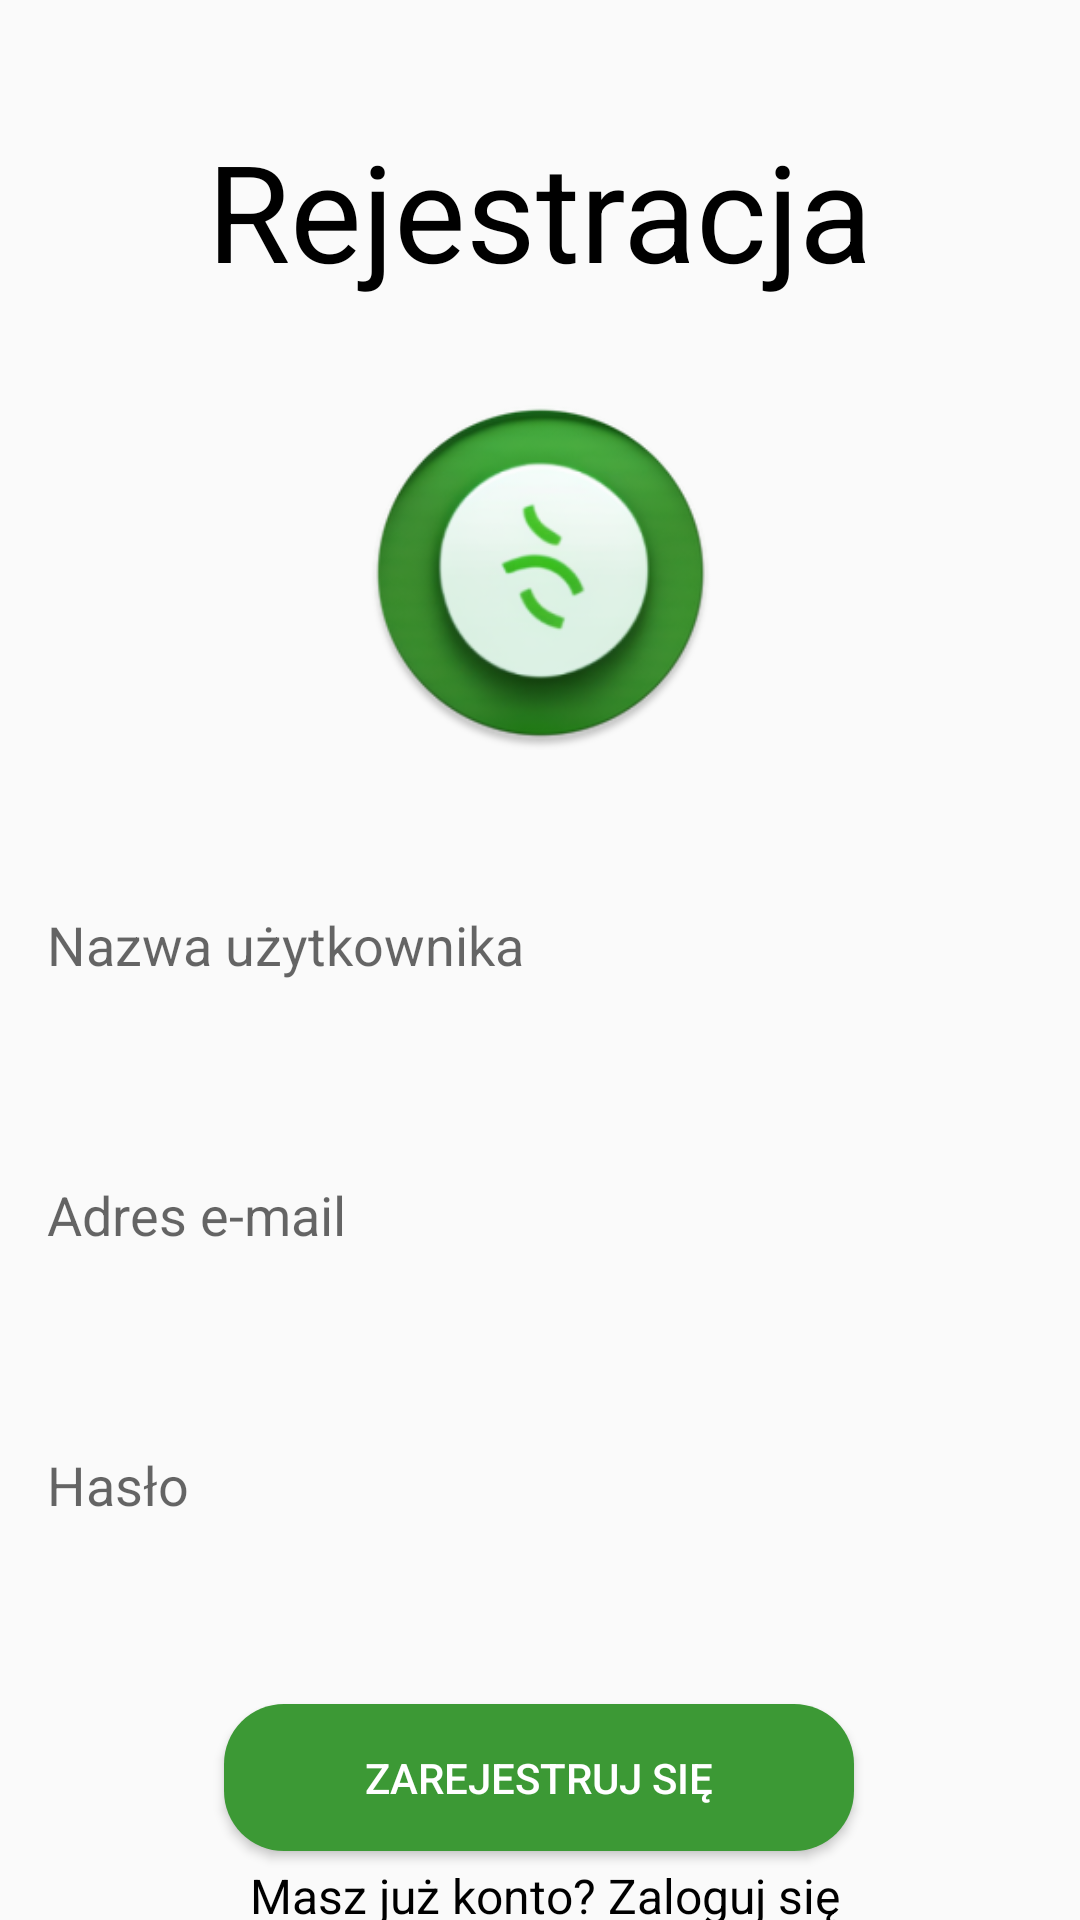

Point at icon controls on the screen. Image size 1080×1920, points as (x,y).
round: (540,576)
